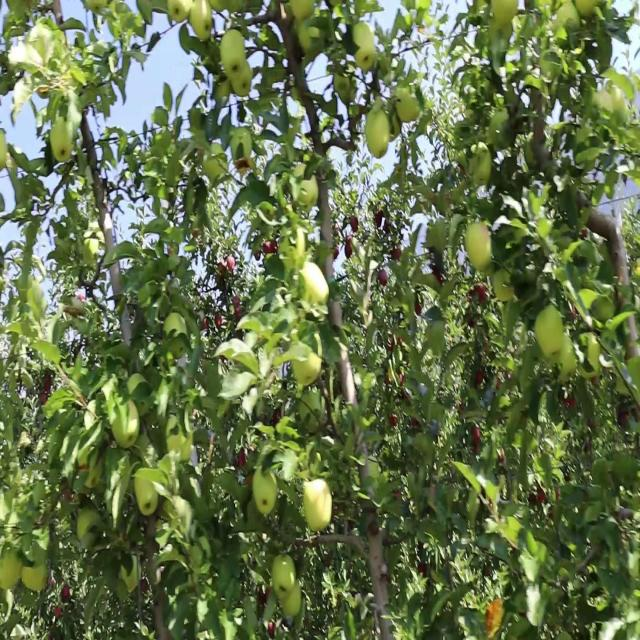apple: (304, 476, 333, 533), (464, 220, 494, 272), (536, 305, 564, 359), (352, 21, 377, 76), (112, 405, 141, 452), (300, 263, 329, 308), (220, 28, 247, 75), (52, 113, 76, 165), (364, 113, 389, 162), (136, 469, 160, 519), (296, 15, 323, 57), (468, 149, 494, 188), (168, 426, 195, 462), (272, 554, 297, 592), (0, 547, 22, 590), (256, 476, 279, 517), (492, 0, 519, 32), (232, 63, 255, 100), (396, 92, 421, 126), (76, 451, 98, 489), (192, 7, 215, 43), (280, 583, 303, 619), (336, 71, 359, 107), (24, 561, 49, 594), (76, 504, 98, 540), (300, 177, 320, 210), (288, 0, 316, 23), (240, 447, 255, 489), (120, 561, 139, 594), (168, 0, 190, 27), (212, 78, 232, 105), (488, 604, 504, 633), (388, 113, 403, 142), (40, 376, 53, 405), (220, 255, 236, 277), (260, 241, 278, 260), (472, 426, 481, 453), (532, 490, 544, 505), (392, 248, 403, 263), (380, 270, 388, 286), (348, 234, 353, 258), (420, 561, 428, 576), (416, 305, 423, 318), (540, 490, 545, 505)
